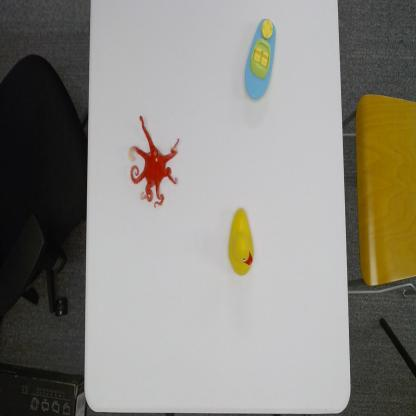Boat: (242, 14, 278, 104)
Duck: (226, 204, 257, 278)
Octopus: (127, 112, 181, 210)
